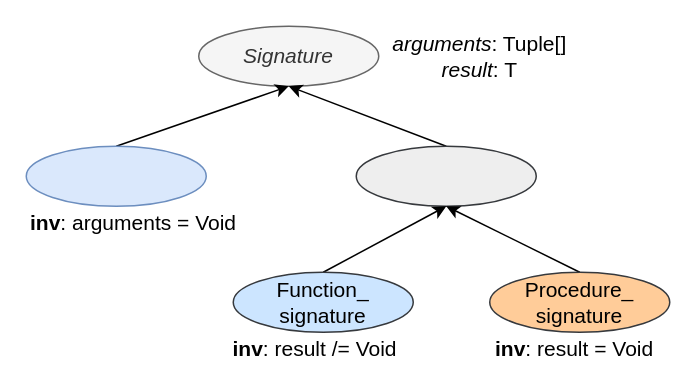
This 699x389 diagram has some shape labels left out. The centre of each missing label's shape, as x and y in pixels:
"Property_ signature" goes at pixel 115 175.
"Routine_ signature" goes at pixel 445 175.
